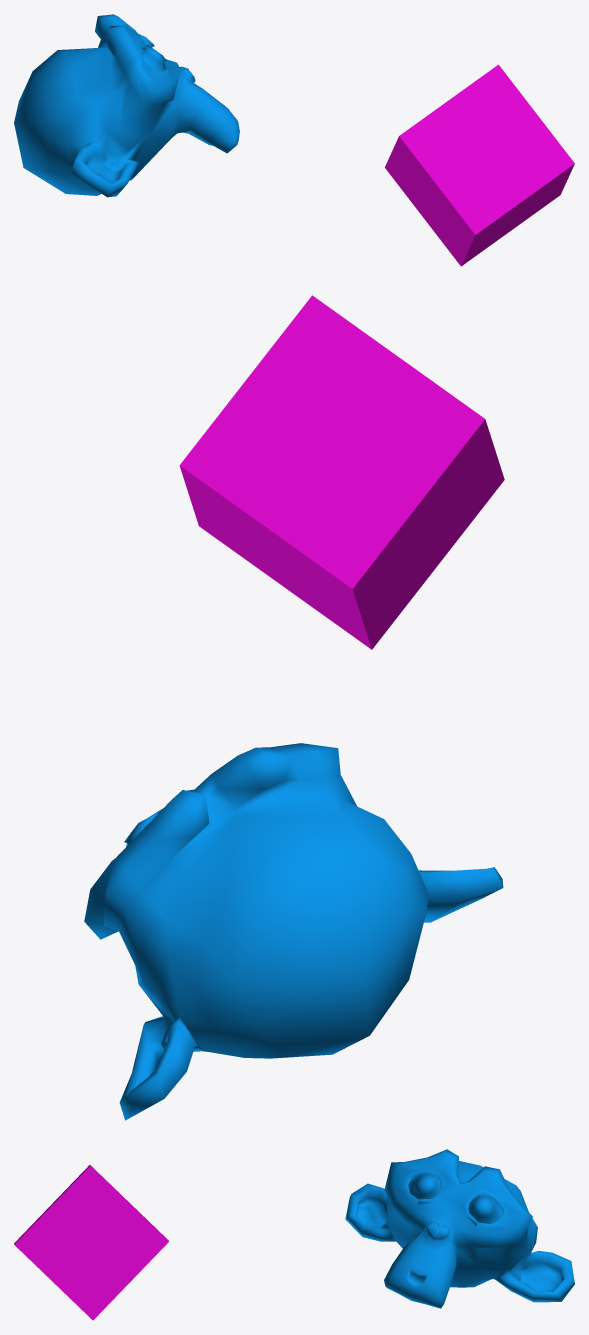
3 views of the same model, one above another, from view 1: azimuth 30°, elevation 25°; view 2: azimuth 150°, elevation 25°; view 3: azimuth 270°, elevation 25° (orthographic). The views are drawn at different scales.
Parts seen in each view (by area): view 1: Suzanne, Cube; view 2: Suzanne, Cube; view 3: Suzanne, Cube.
Part boxes in pixels (box(x1,y1,x2,y2)): Suzanne: box(14, 14, 239, 197); Cube: box(385, 64, 574, 266); Suzanne: box(84, 743, 503, 1120); Cube: box(179, 295, 504, 649); Suzanne: box(345, 1149, 574, 1308); Cube: box(14, 1165, 168, 1320).
Bounding box in the file's own units: 3.69 × 2.51 × 6.21.
